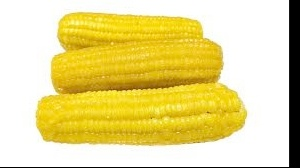corn: (32, 81, 249, 145), (51, 40, 223, 92), (57, 13, 204, 66)
